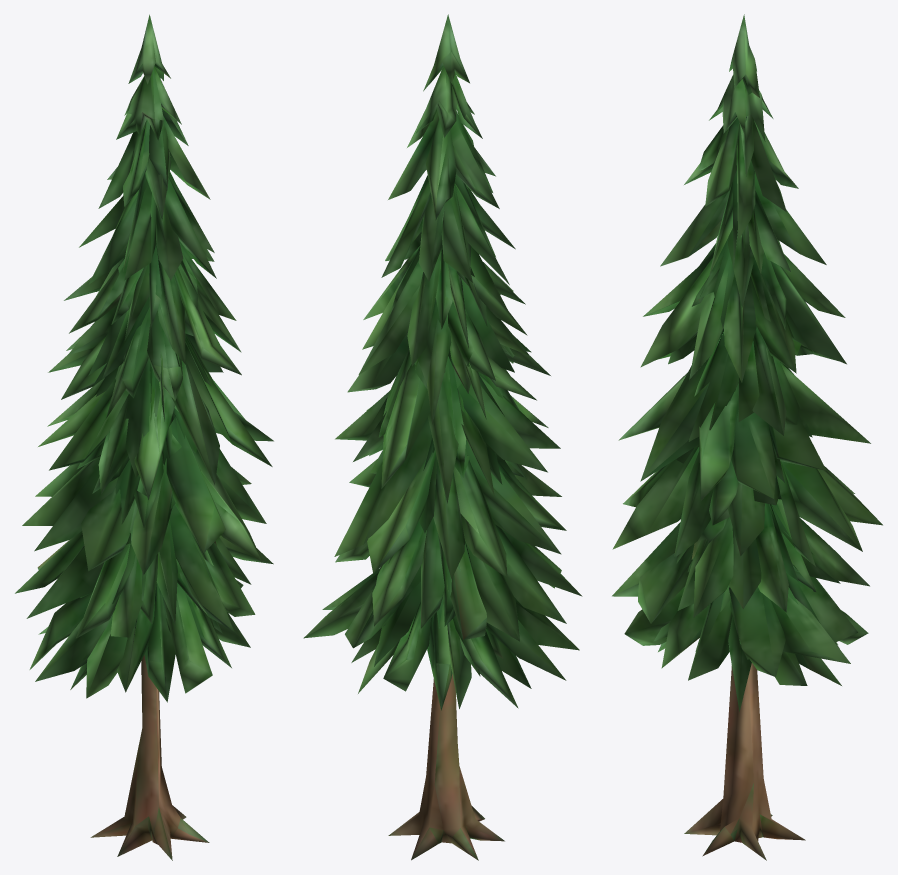
Rendered from pine.glb.
3 views of the same model, side by side, from view 1: azimuth 30°, elevation 25°; view 2: azimuth 150°, elevation 25°; view 3: azimuth 270°, elevation 25° (orthographic).
Size of the model in its own units: 0.2794 by 0.9517 by 0.285.
1 material, 1 textured.
